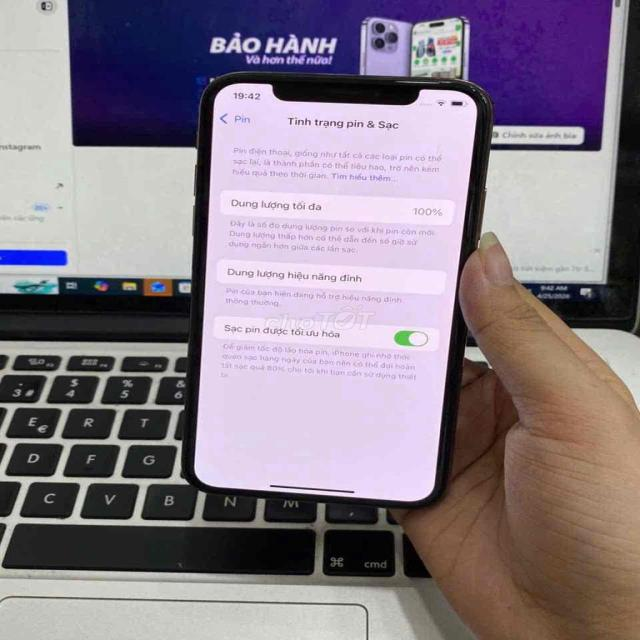gen_x_xs: (164, 67, 502, 515)
